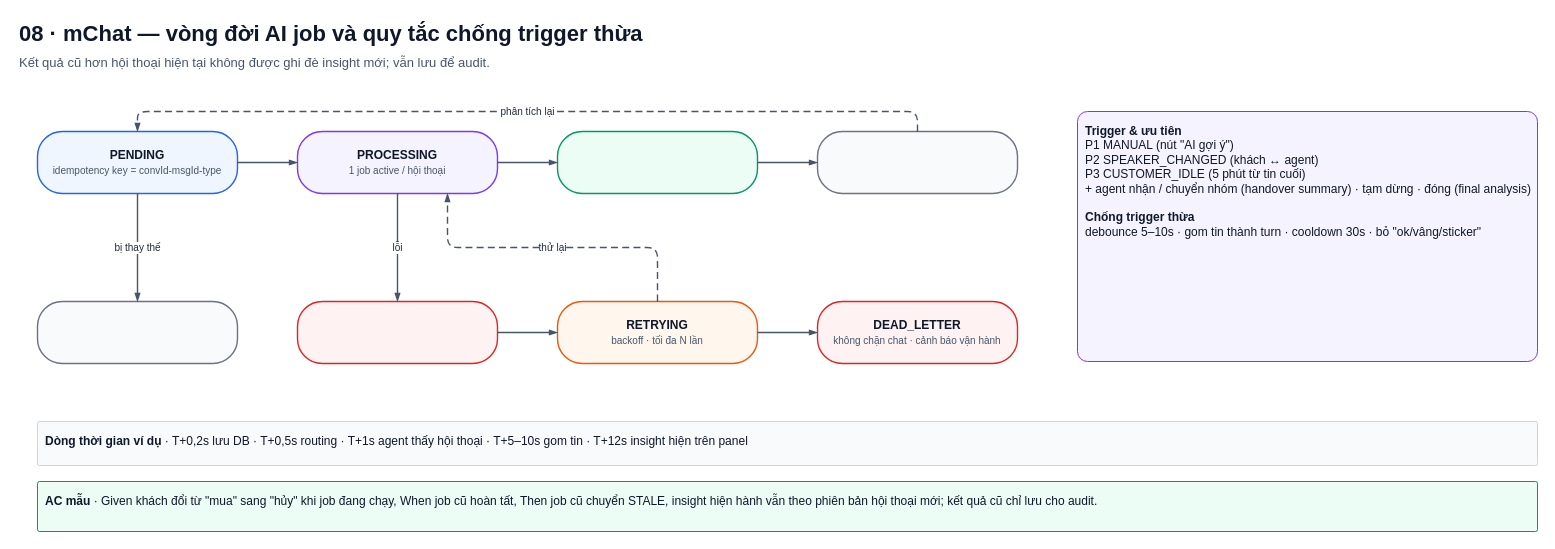
This 1555x549 diagram has some shape labels left out. The shapes that lost their labels are listed below. From the top down, each one's centre as x and y in pixels, then its label:
At point 657,162: "COMPLETED đẩy SSE lên Agent UI".
At point 917,162: "STALE có tin mới sau from/to message".
At point 137,332: "CANCELLED Manual thay thế Idle cùng target".
At point 397,332: "FAILED timeout · JSON sai schema".
